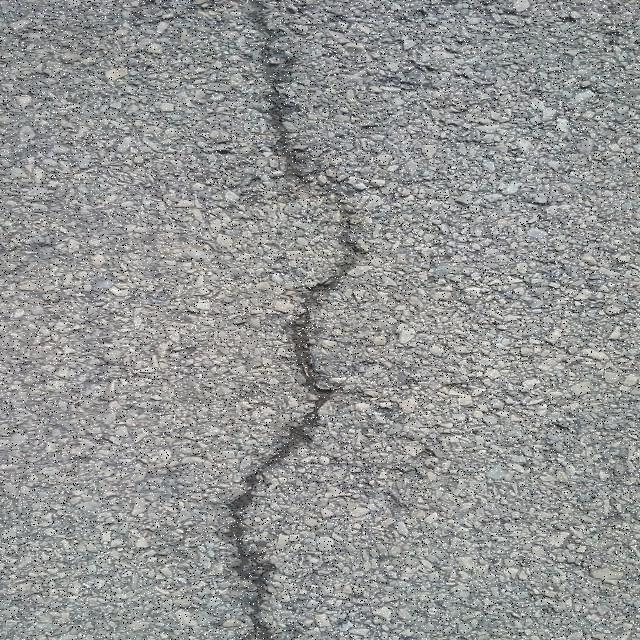Crack: (170, 0, 373, 640)
